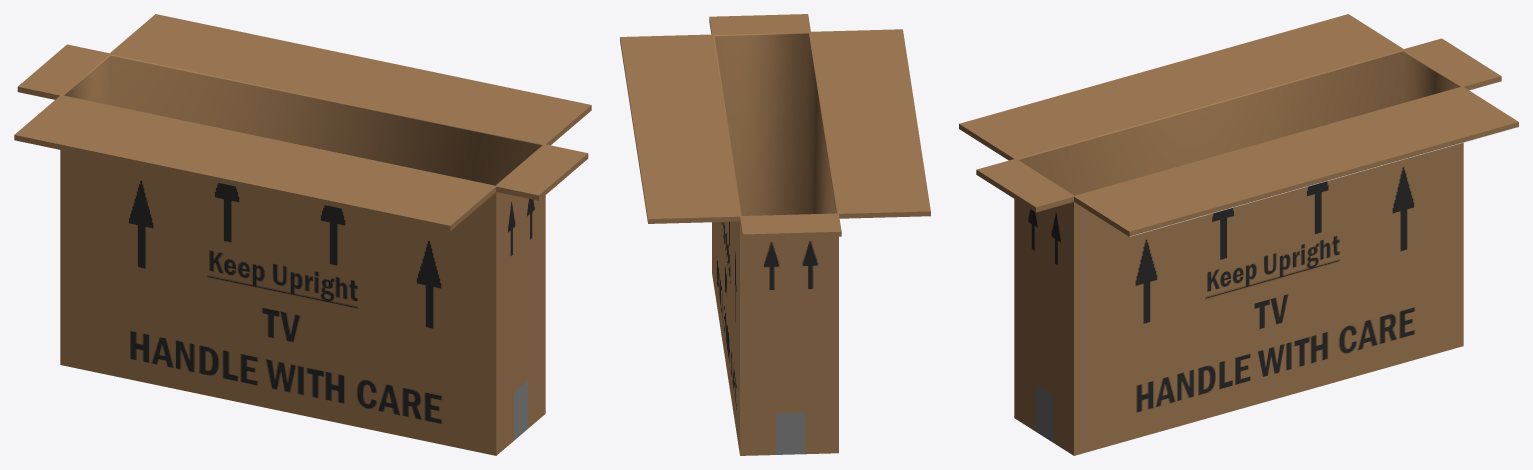
Rendered from simple_tv_packagingcardboard_box.glb.
3 renders of one model, left to right at view 1: azimuth 30°, elevation 25°; view 2: azimuth 150°, elevation 25°; view 3: azimuth 270°, elevation 25°, orthographic. The views are drawn at different scales.
Visible parts, largest first — view 1: Box001; view 2: Box001; view 3: Box001.
Boxes of the visible parts, x1,y1,x2,y2 form: Box001: [14, 14, 591, 455]; Box001: [620, 14, 930, 455]; Box001: [959, 14, 1518, 455].
Size of the model in its own units: 1.11 by 0.6184 by 1.21.
1 material, 1 textured.
